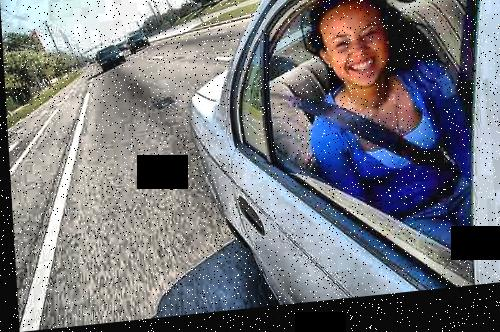seatbelt: (280, 83, 456, 204)
